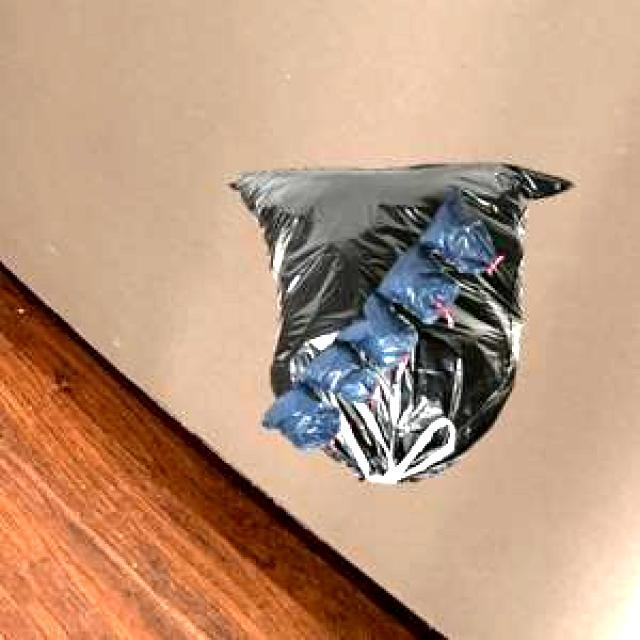Garbage_Bag: (227, 161, 571, 479), (259, 184, 492, 447)
